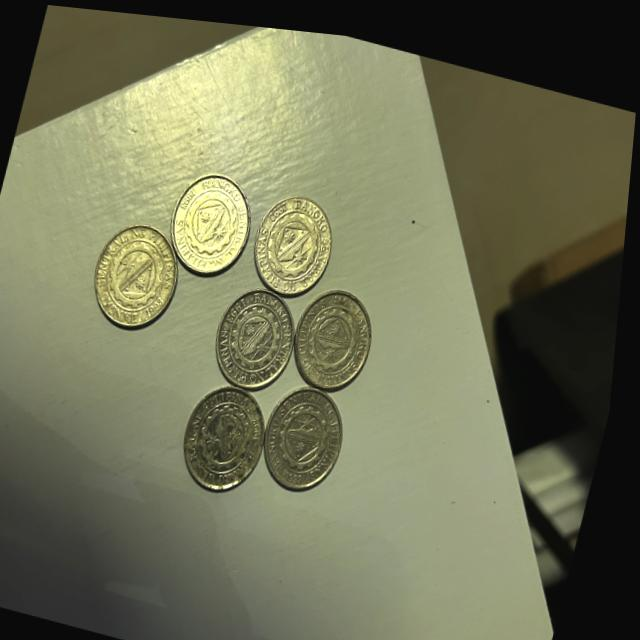1_Old_Back: (191, 385, 269, 478), (269, 386, 348, 475), (104, 227, 177, 320), (302, 290, 374, 378), (261, 193, 330, 280), (226, 293, 296, 375)
